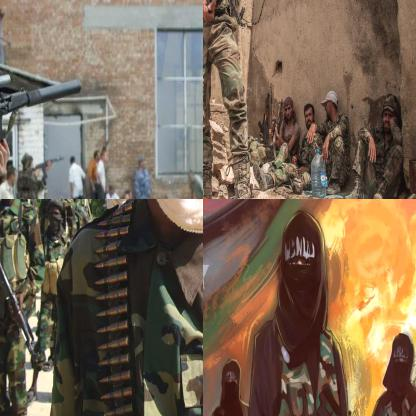rifle: (0, 69, 84, 173), (0, 233, 42, 364), (203, 0, 246, 40), (30, 154, 68, 184)
